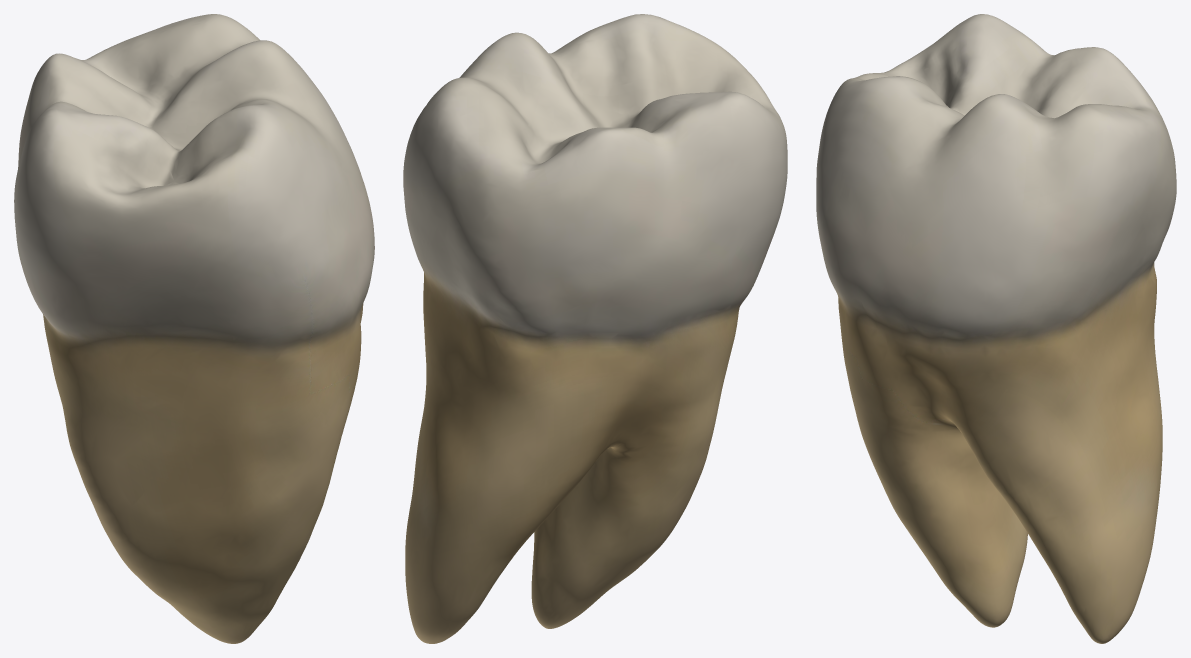
File: mandibular_first_molar.glb
3 views of the same model, side by side, from view 1: azimuth 30°, elevation 25°; view 2: azimuth 150°, elevation 25°; view 3: azimuth 270°, elevation 25° (orthographic). The views are drawn at different scales.
Parts seen in each view (by area): view 1: Object_2; view 2: Object_2; view 3: Object_2.
Boxes of the visible parts, left/top/right/bottom form: Object_2: left=14, top=14, right=374, bottom=643; Object_2: left=403, top=14, right=787, bottom=643; Object_2: left=816, top=14, right=1176, bottom=643.
Size of the model in its own units: 1.1 by 1.83 by 1.11.
Materials: 1 (1 with a texture image).
